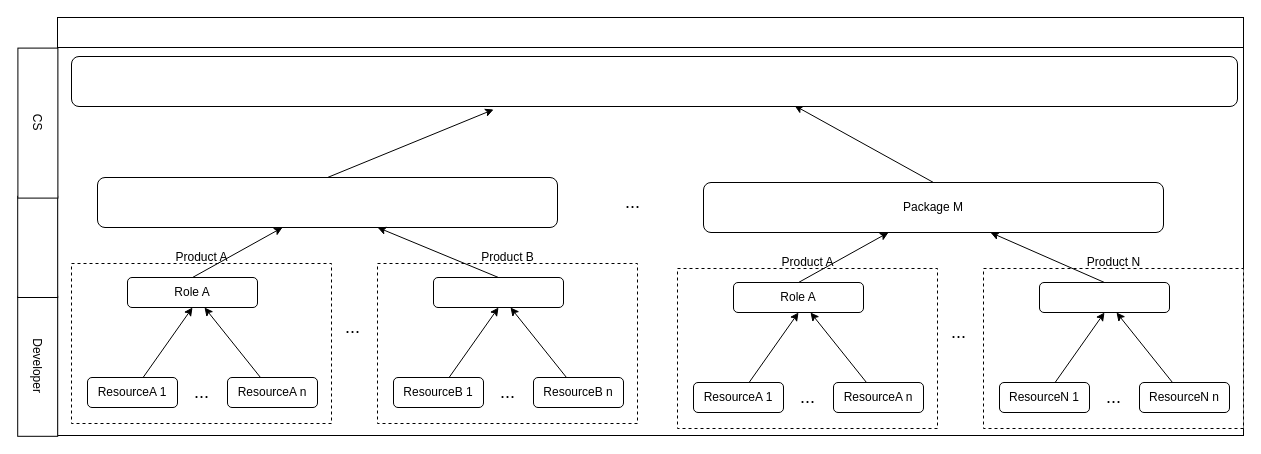
The diagram is 1261 pixels wide and 454 high, and some of its shapes have lost their labels. The shapes that lost their labels are listed below. From the top down, each one's centre as x and y in pixels, then its label:
At point (650, 32): "Company Privilege".
At point (654, 81): "Privilege A".
At point (327, 202): "Package A".
At point (37, 246): "PM".
At point (498, 292): "Role B".
At point (1104, 297): "Role N".
